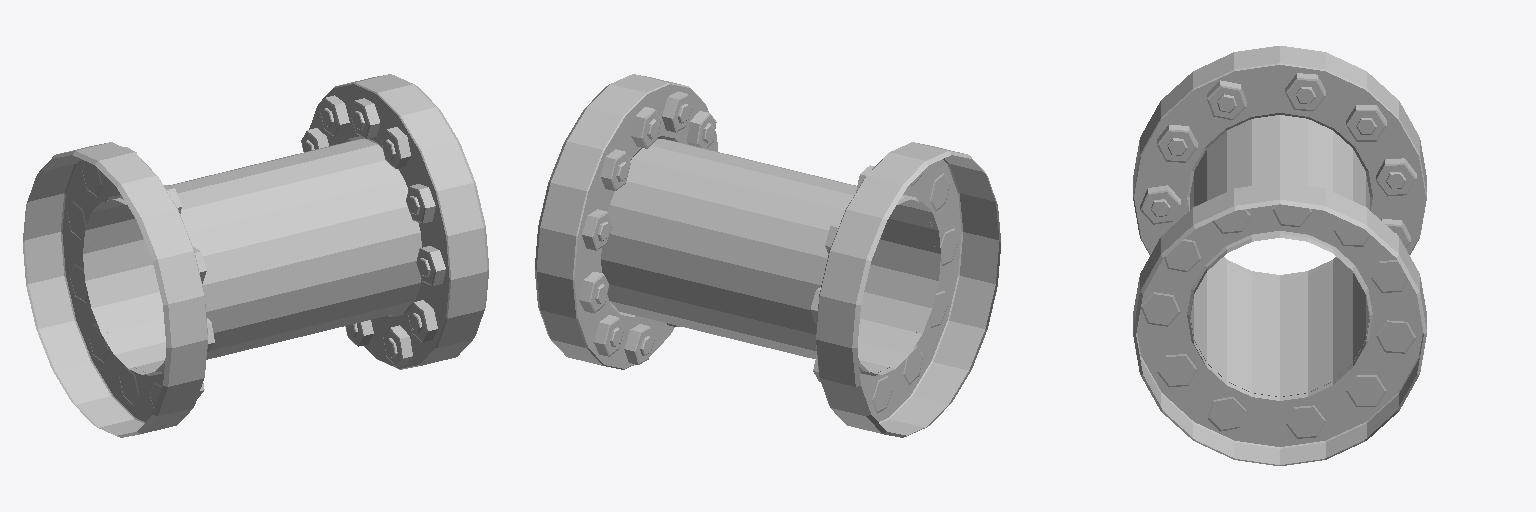
The model's file is StraightPipe_Small.obj.
The picture shows the model from 3 angles: view 1: azimuth 30°, elevation 25°; view 2: azimuth 150°, elevation 25°; view 3: azimuth 270°, elevation 25°; orthographic projection.
Parts seen in each view (by area): view 1: polySurface36; view 2: polySurface36; view 3: polySurface36.
Boxes of the visible parts, <box> form: polySurface36: <box>23,74,488,437</box>; polySurface36: <box>535,74,1000,437</box>; polySurface36: <box>1133,46,1426,465</box>.
Size of the model in its own units: 131 by 103 by 103.